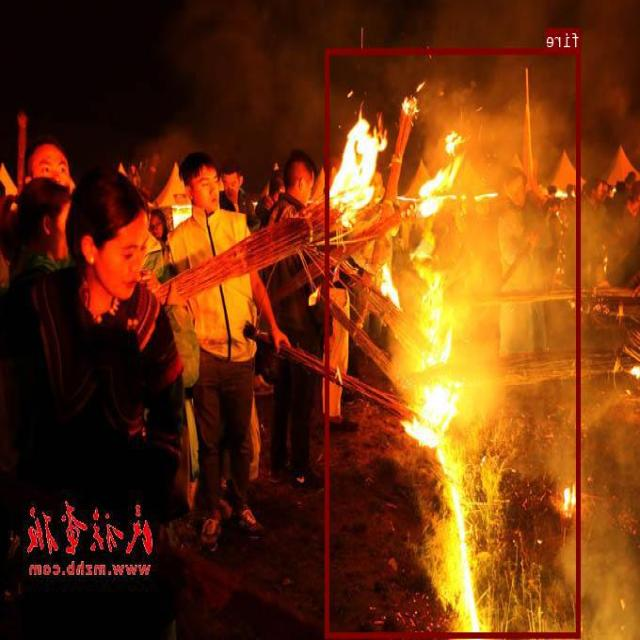fire: (327, 48, 581, 636)
